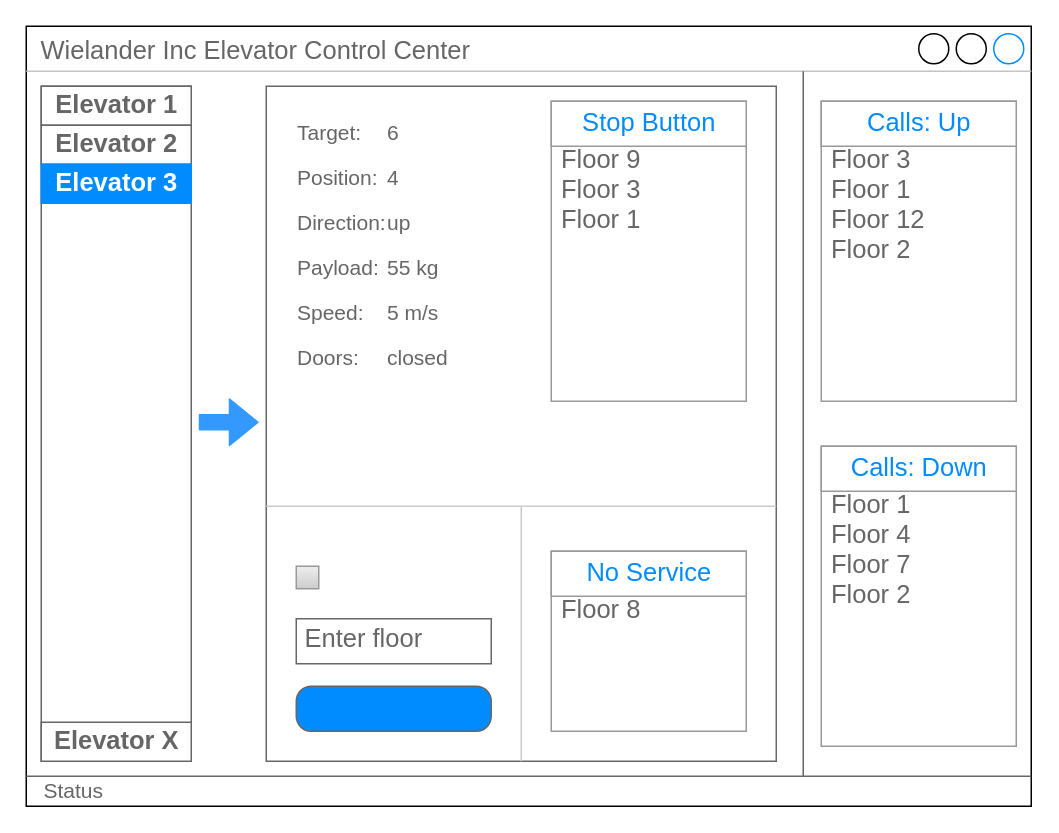
Image size: 1059x833. Some labels were removed from this diagram. Here are the shapes that lost their labels. From the top down, the centre of each, then its label:
the point at 307,577: Manual mode
the point at 393,708: Send to Floor
